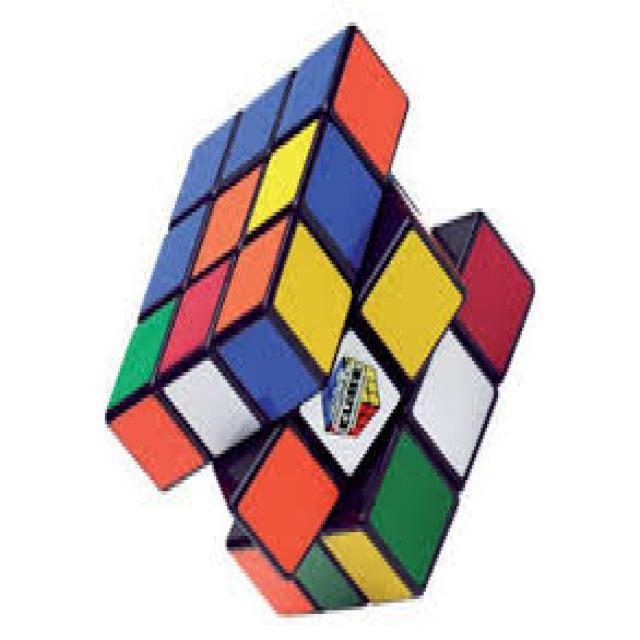Rub: (104, 21, 536, 617)
